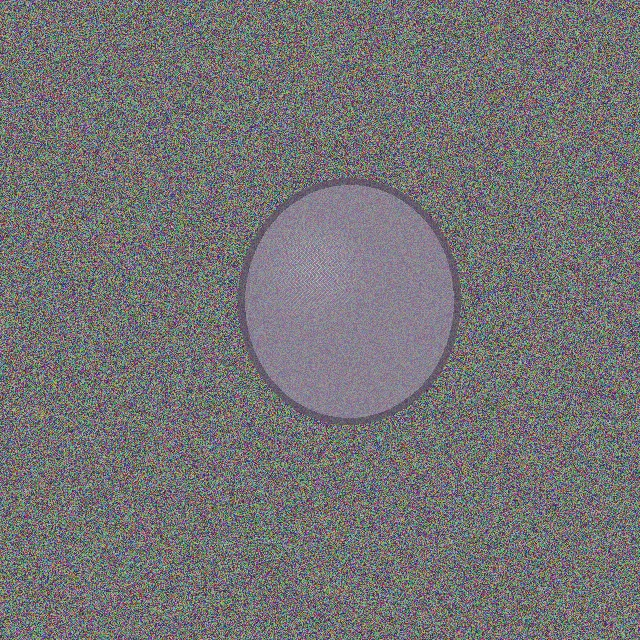lens: (241, 181, 457, 421)
